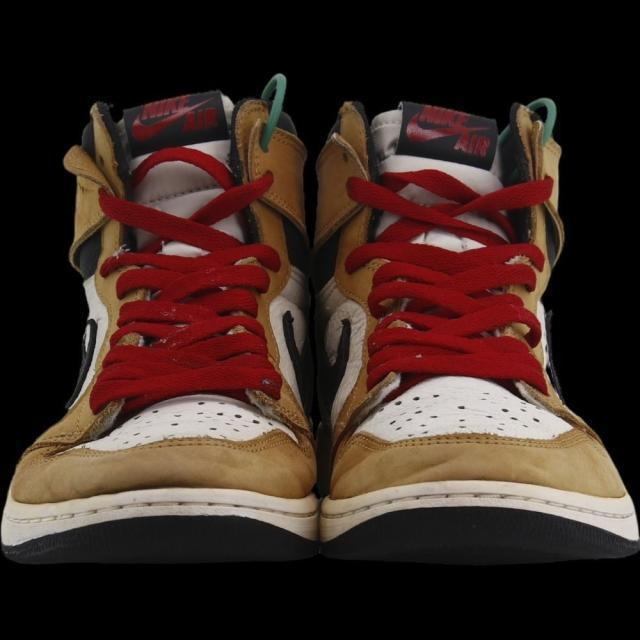nike original jordan 1: (0, 70, 322, 580), (309, 91, 640, 571)
